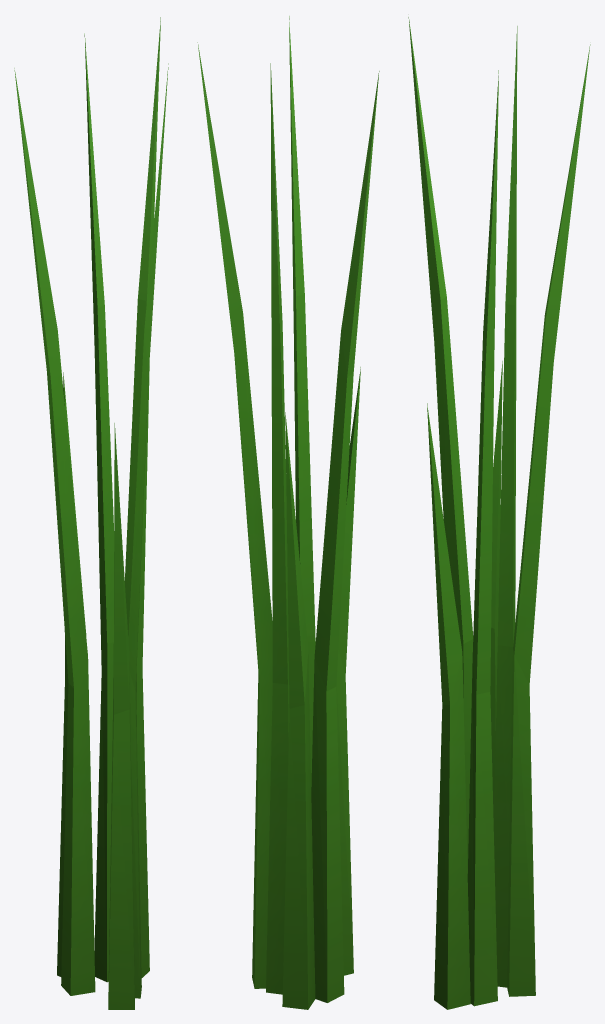
The model's file is grass_reed.glb.
3 views of the same model, side by side, from view 1: azimuth 30°, elevation 25°; view 2: azimuth 150°, elevation 25°; view 3: azimuth 330°, elevation 25° (orthographic).
Parts seen in each view (by area): view 1: GrassHigh_D_1; view 2: GrassHigh_D_1; view 3: GrassHigh_D_1.
Part boxes in pixels (x1,y1,x2,y2): GrassHigh_D_1: (14, 17, 168, 1009); GrassHigh_D_1: (197, 16, 379, 1009); GrassHigh_D_1: (408, 17, 590, 1009).
Bounding box in the file's own units: 0.0824 × 0.45 × 0.0551.
Materials: 1 (1 with a texture image).
